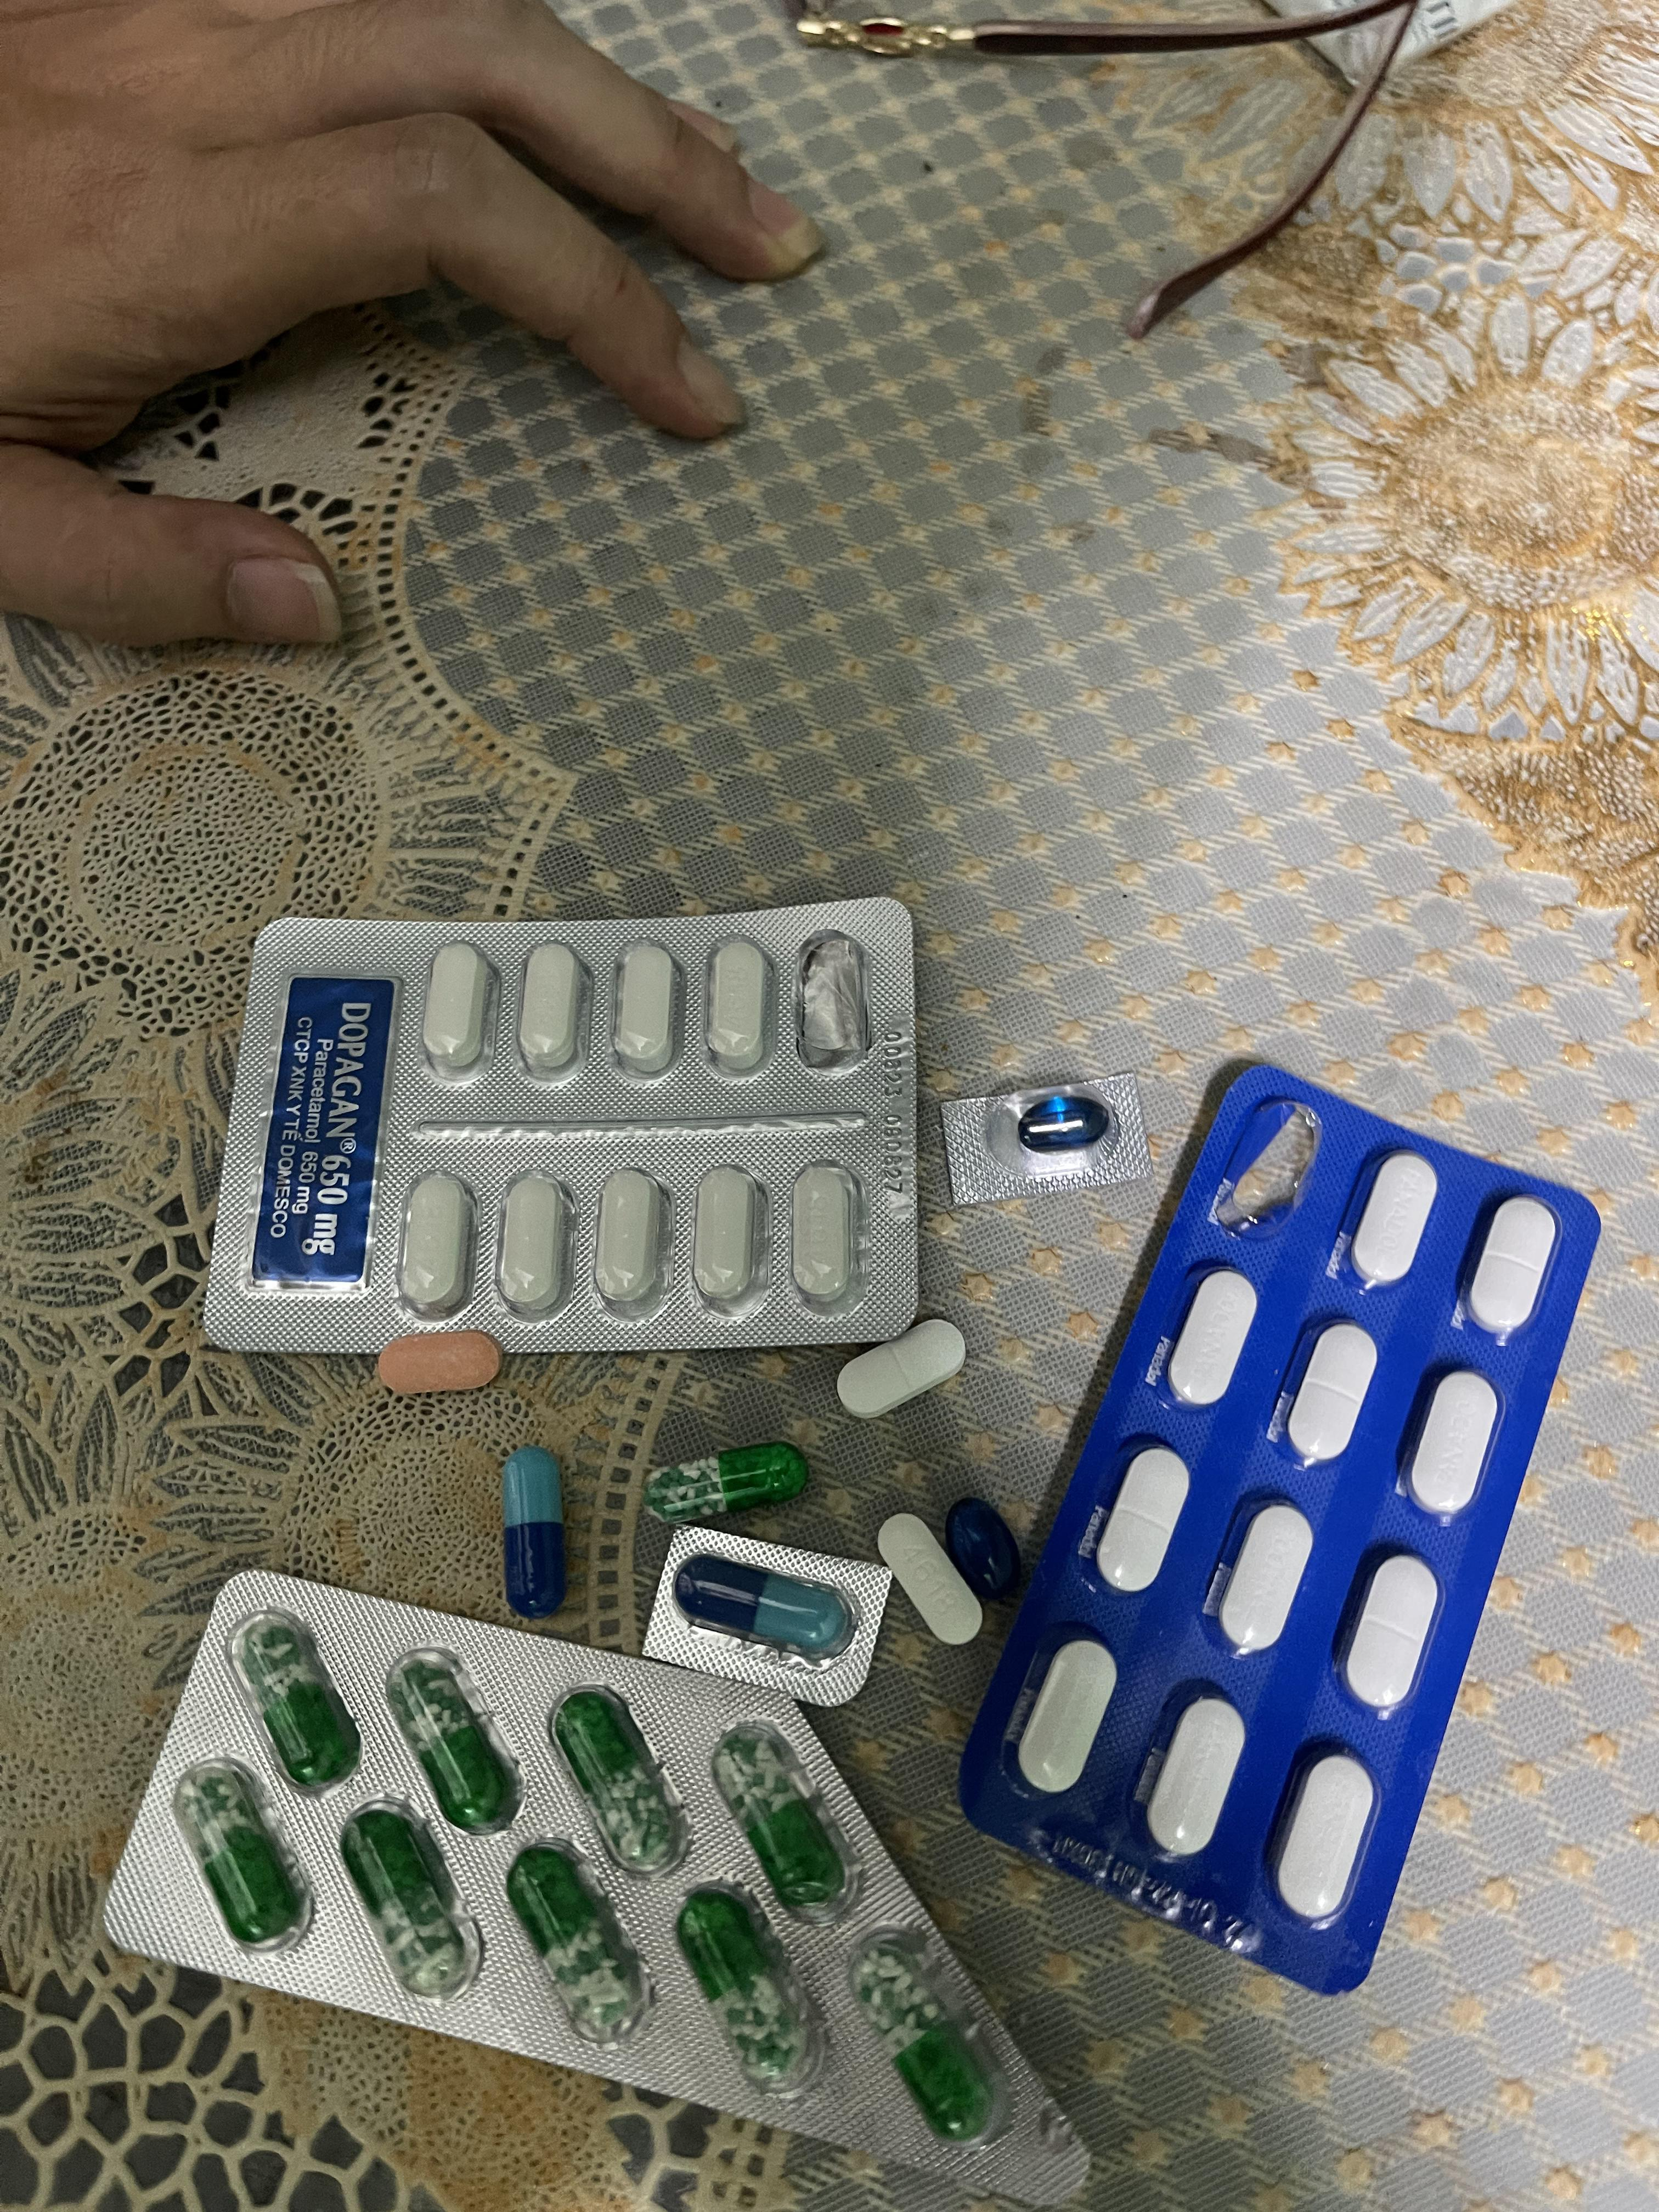Lincomyxin_500mg: (945, 1494, 1021, 1604), (1018, 1092, 1107, 1151)
Loratadine_10mg: (375, 1331, 500, 1395)
Paracetamol_350mg: (1270, 1749, 1375, 1923), (1145, 1691, 1244, 1858), (1016, 1637, 1115, 1804), (1340, 1550, 1439, 1712), (1216, 1501, 1316, 1655), (1405, 1371, 1500, 1519), (1284, 1324, 1378, 1467), (1466, 1197, 1560, 1336), (836, 1320, 964, 1421), (1347, 1153, 1439, 1291), (1094, 1449, 1182, 1594), (1168, 1270, 1256, 1406)
Paracetamol_500mg: (875, 1512, 983, 1644), (497, 1170, 575, 1320), (592, 1165, 669, 1317), (399, 1169, 476, 1318), (690, 1167, 765, 1318), (789, 1162, 863, 1308), (422, 942, 497, 1083), (704, 934, 775, 1078), (519, 941, 591, 1085), (612, 941, 683, 1082)
Paracetamol_650mg: (854, 1926, 1007, 2144), (502, 1836, 655, 2041), (676, 1885, 821, 2097), (711, 1721, 861, 1921), (336, 1799, 479, 2000), (173, 1756, 312, 1956), (547, 1681, 692, 1871), (385, 1651, 519, 1832), (230, 1611, 361, 1791), (647, 1442, 810, 1524)
pill: (674, 1552, 854, 1662), (502, 1449, 566, 1618)
